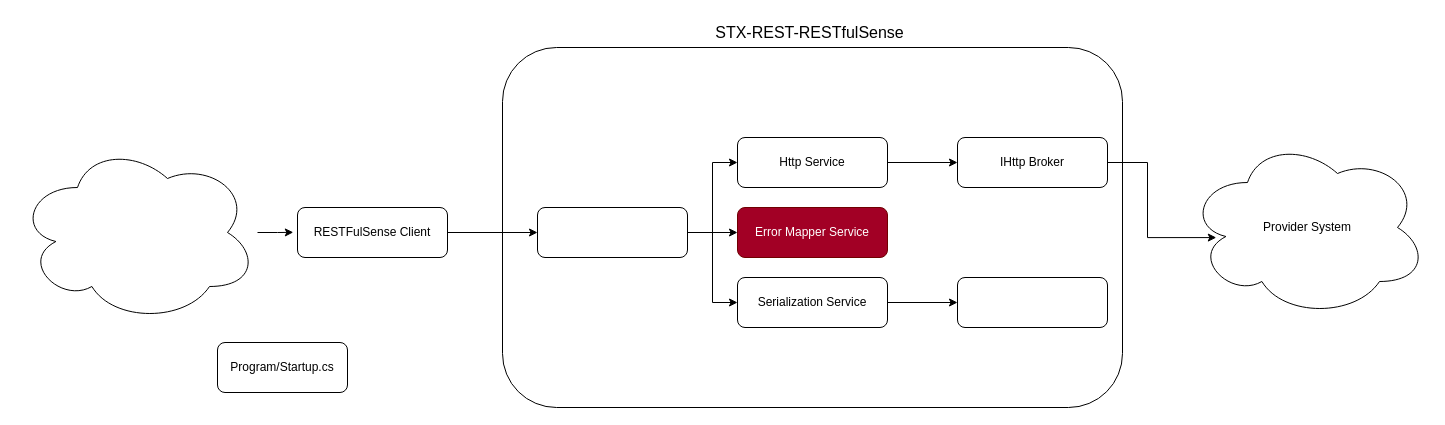
Image size: 1445x425. Some labels were removed from this diagram. Here are the shapes that lost their labels. From the top down, the centre of each, then its label:
At (x=137, y=232): "Consumer System".
At (x=612, y=232): "Http Orchestration Service".
At (x=1032, y=302): "ISerialization Broker".
